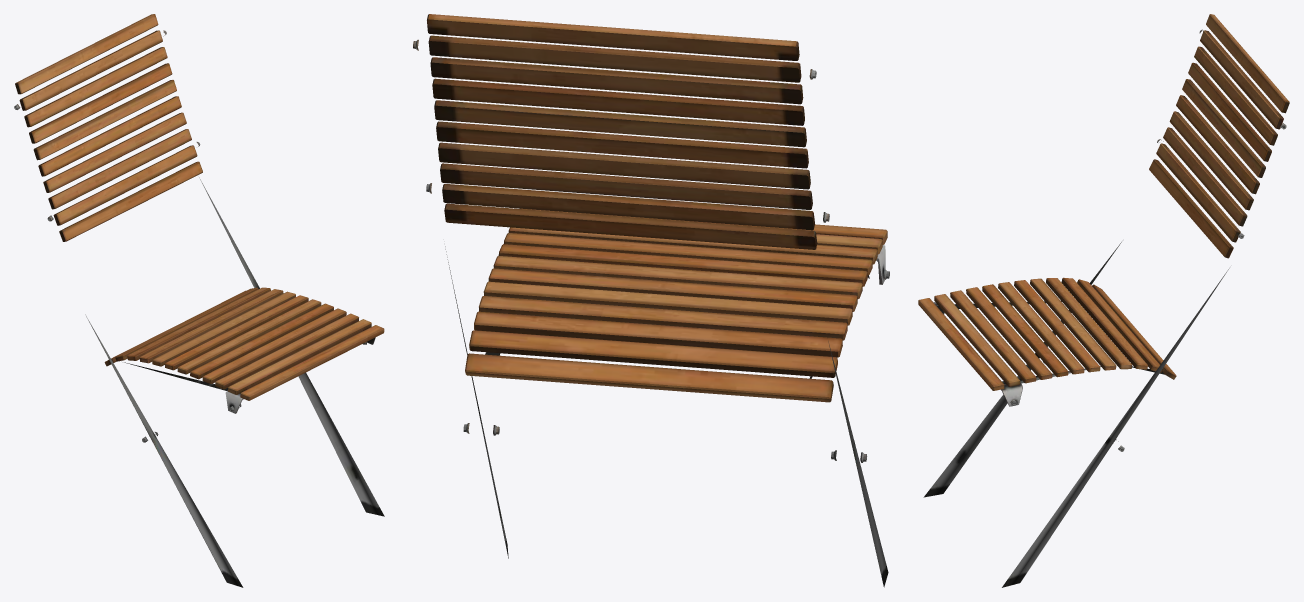
The model's file is outdoor_chair.glb.
The picture shows the model from 3 angles, left to right: view 1: azimuth 30°, elevation 25°; view 2: azimuth 150°, elevation 25°; view 3: azimuth 270°, elevation 25°; orthographic projection. The views are drawn at different scales.
Visible parts, largest first — view 1: outdoor_chair; view 2: outdoor_chair; view 3: outdoor_chair.
Boxes of the visible parts, left/top/right/bottom form: outdoor_chair: left=14, top=14, right=384, bottom=587; outdoor_chair: left=413, top=14, right=889, bottom=587; outdoor_chair: left=918, top=14, right=1289, bottom=587.
Size of the model in its own units: 0.5702 by 0.8482 by 0.6494.
Materials: 1 (1 with a texture image).
